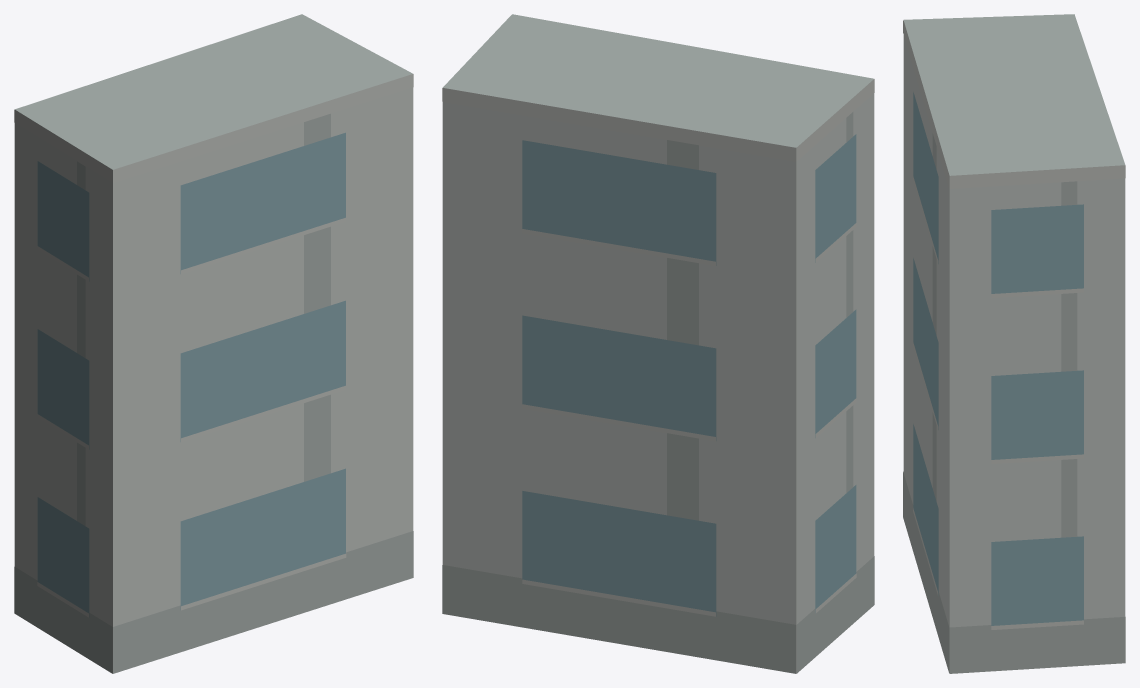
File: survey-upis-32653787.glb
3 renders of one model, left to right at view 1: azimuth 30°, elevation 25°; view 2: azimuth 150°, elevation 25°; view 3: azimuth 270°, elevation 25°, orthographic. The views are drawn at different scales.
Visible parts, largest first — view 1: survey-upis-32653787.tmp; view 2: survey-upis-32653787.tmp; view 3: survey-upis-32653787.tmp.
Part boxes in pixels (<box>): survey-upis-32653787.tmp: <box>14,14,413,673</box>; survey-upis-32653787.tmp: <box>442,14,874,673</box>; survey-upis-32653787.tmp: <box>903,14,1125,673</box>.
Bounding box in the file's own units: 6.39 × 9.15 × 3.71.
